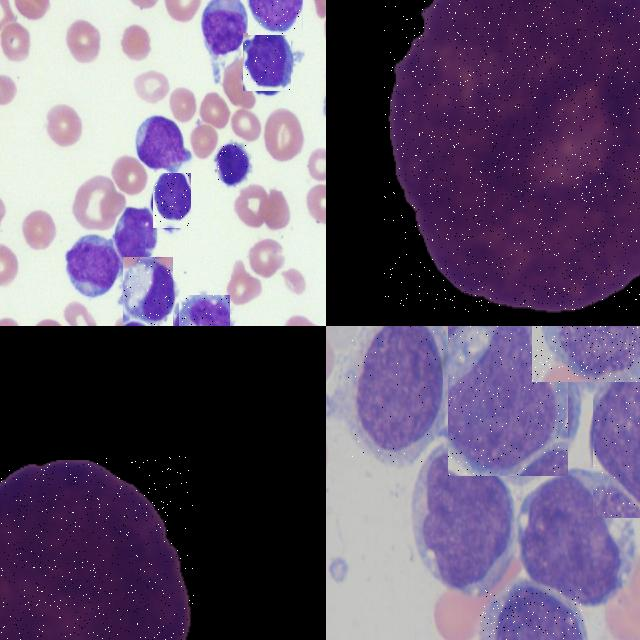ALL Positive Cell: (384, 0, 640, 312), (0, 457, 193, 640), (447, 326, 568, 476), (346, 326, 442, 465), (592, 346, 640, 517), (531, 326, 640, 381), (480, 587, 583, 640), (122, 257, 173, 326), (243, 33, 291, 91), (153, 173, 191, 228), (247, 0, 303, 34), (179, 295, 229, 326), (216, 144, 248, 186)
